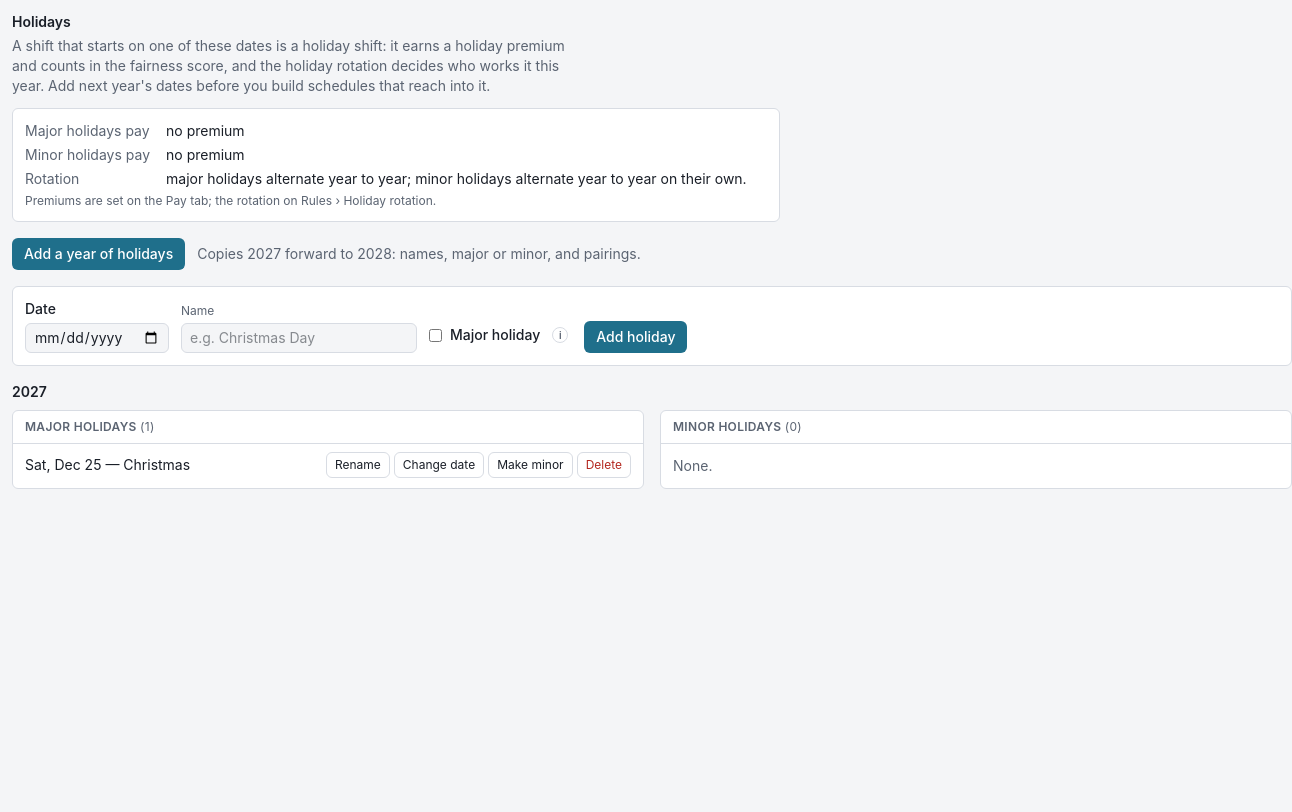
Test: Settings › Holidays › closes the date form on Cancel without saving anything
The width and height of the screenshot is (1292, 812).
Click the button "Change date".
click(439, 465)  # box top-left (394, 452), bottom-right (484, 478)
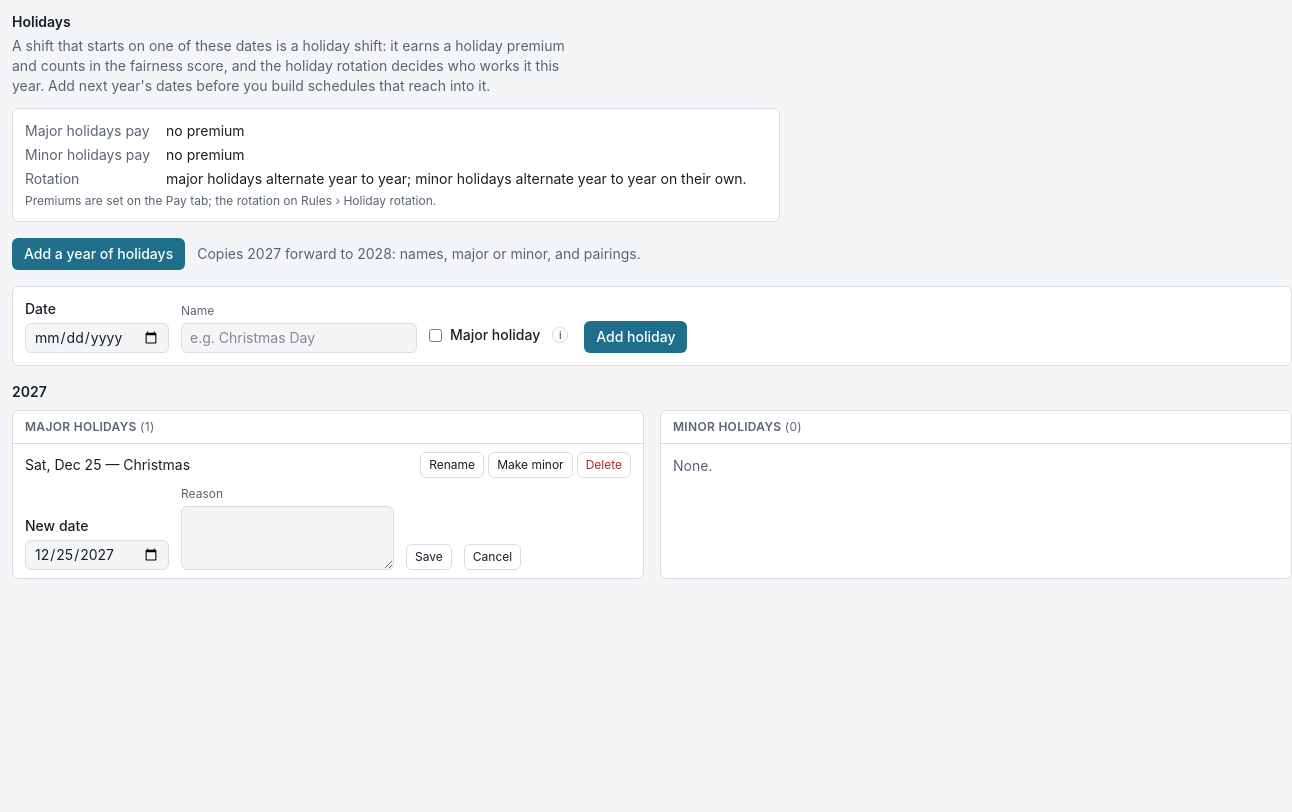
Type "2027-12-26" into the date field labelled "New date".
click(97, 555); type("2027-12-26")  # box top-left (25, 540), bottom-right (169, 570)
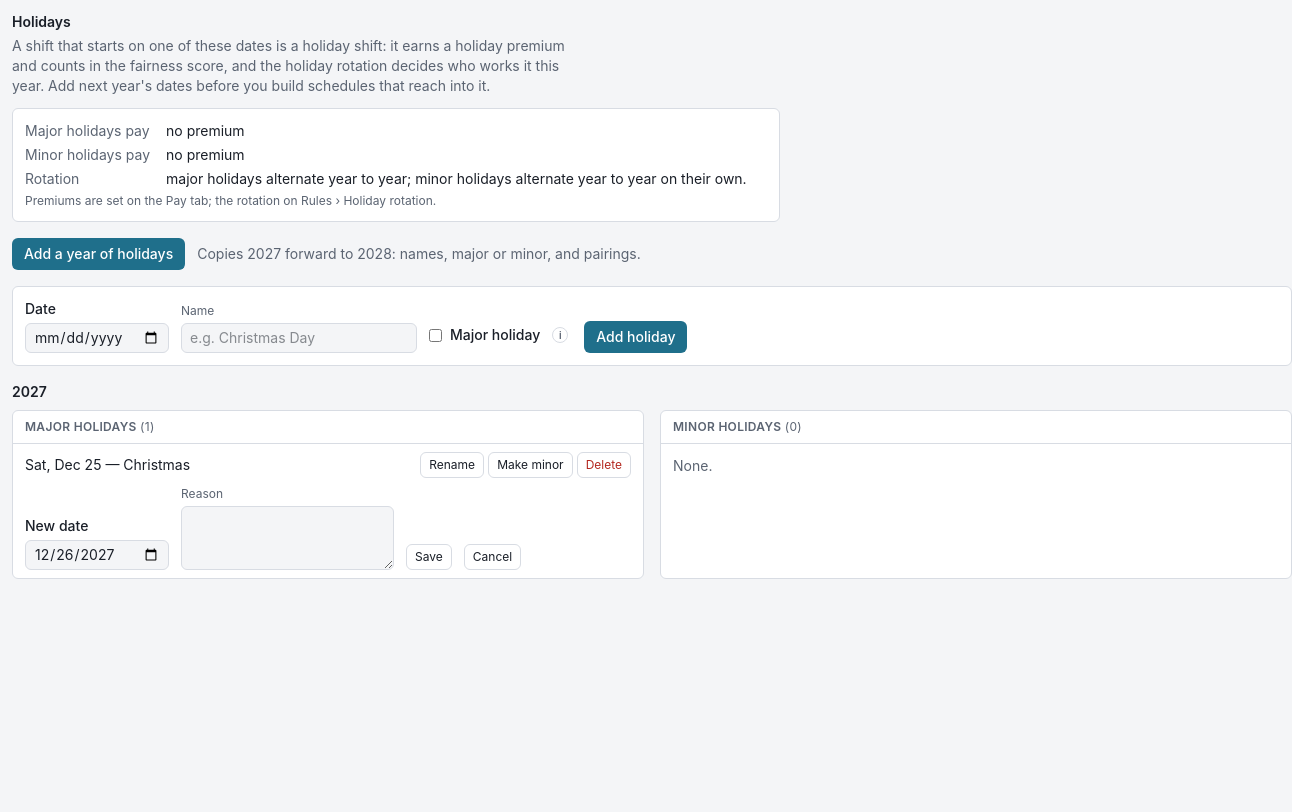
Click the button "Cancel".
click(492, 557)  # box top-left (464, 544), bottom-right (521, 570)
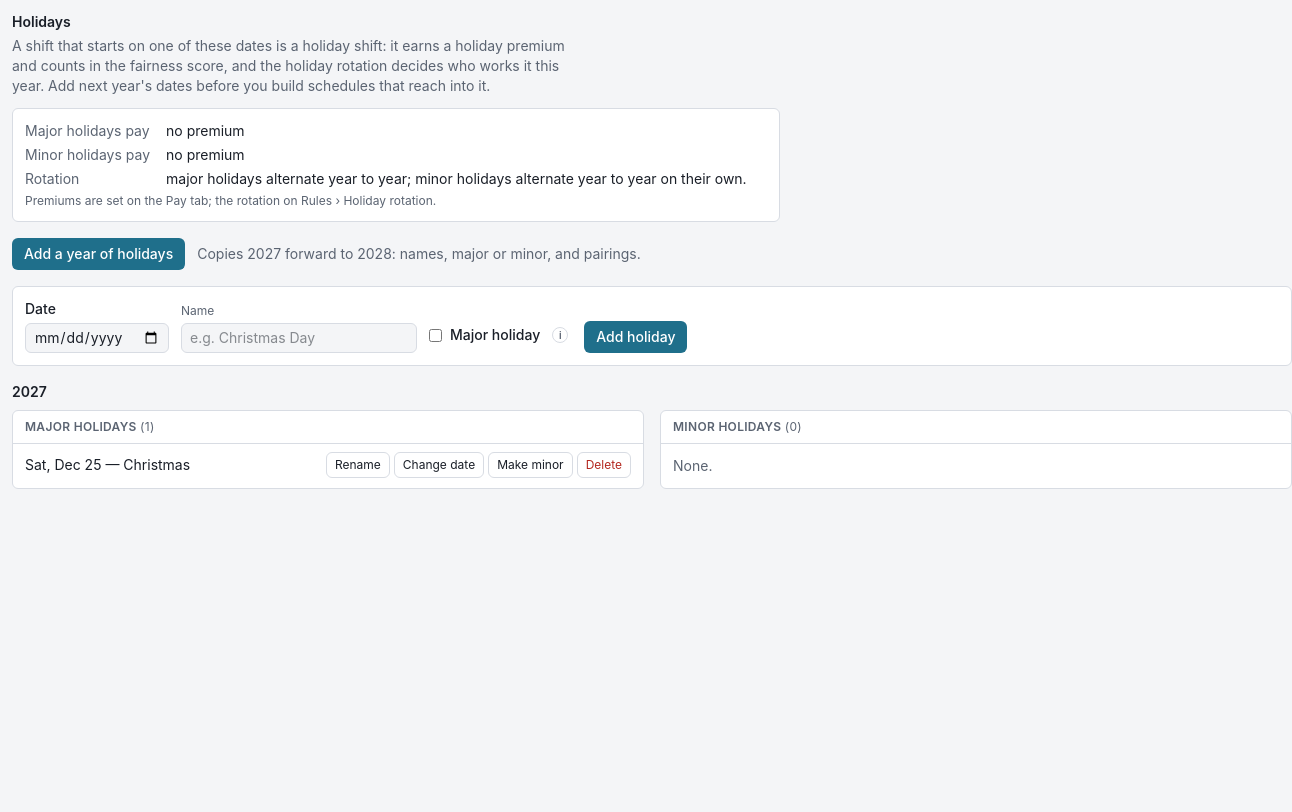
Expected: the label labelled "New date" is gone
